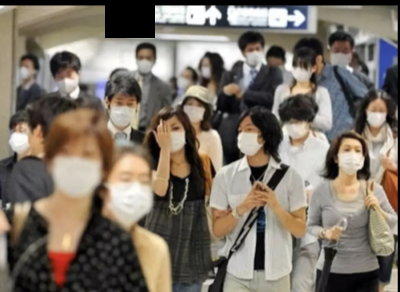with_mask: (49, 140, 102, 197), (105, 170, 153, 225), (106, 95, 138, 128), (235, 121, 264, 156), (335, 142, 364, 176), (157, 121, 186, 153), (8, 123, 32, 153), (52, 68, 79, 93), (181, 100, 205, 123), (284, 117, 308, 139), (365, 105, 387, 128), (328, 45, 351, 67), (289, 60, 312, 81), (243, 44, 264, 66), (135, 52, 153, 74), (18, 60, 31, 80), (177, 71, 190, 89), (199, 61, 211, 77)
